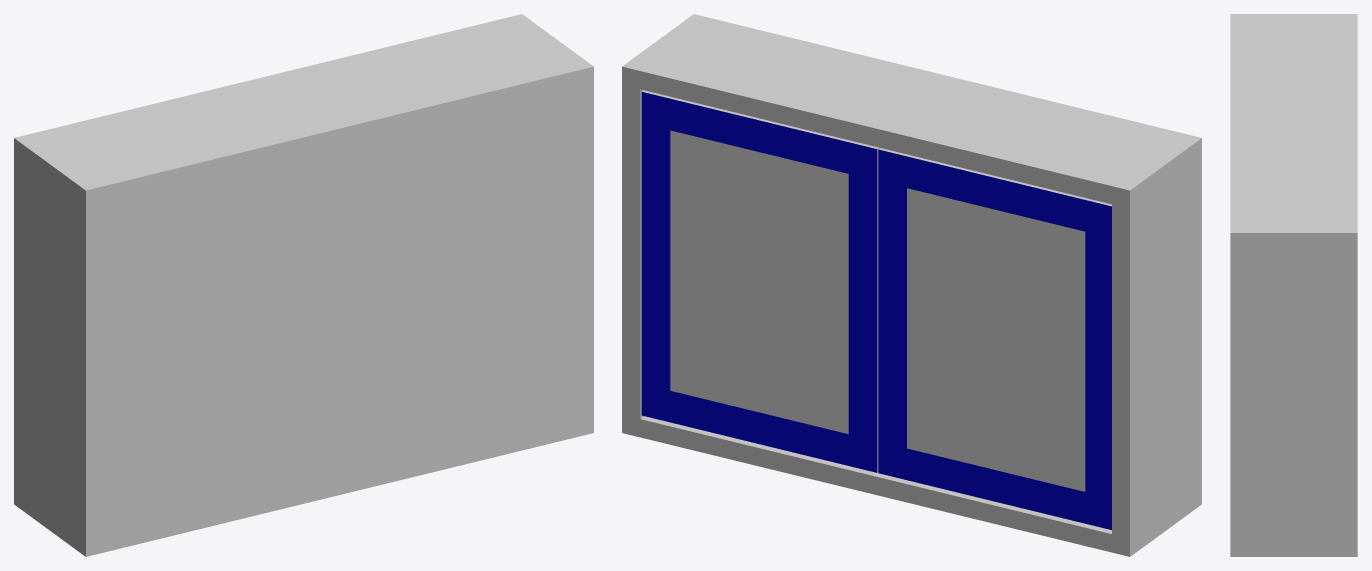
Rendered from cabinetsmall.fbx.
The picture shows the model from 3 angles, left to right: view 1: azimuth 30°, elevation 25°; view 2: azimuth 150°, elevation 25°; view 3: azimuth 270°, elevation 25°; orthographic projection. The views are drawn at different scales.
Visible parts, largest first — view 1: side; view 2: side, side1, side2; view 3: side.
Part boxes in pixels (bbox=[...]): side: bbox=[14, 14, 593, 556]; side: bbox=[622, 14, 1201, 556]; side1: bbox=[641, 90, 879, 472]; side2: bbox=[878, 148, 1111, 529]; side: bbox=[1230, 14, 1357, 556].
Size of the model in its own units: 2.25 by 1.55 by 0.5517.
